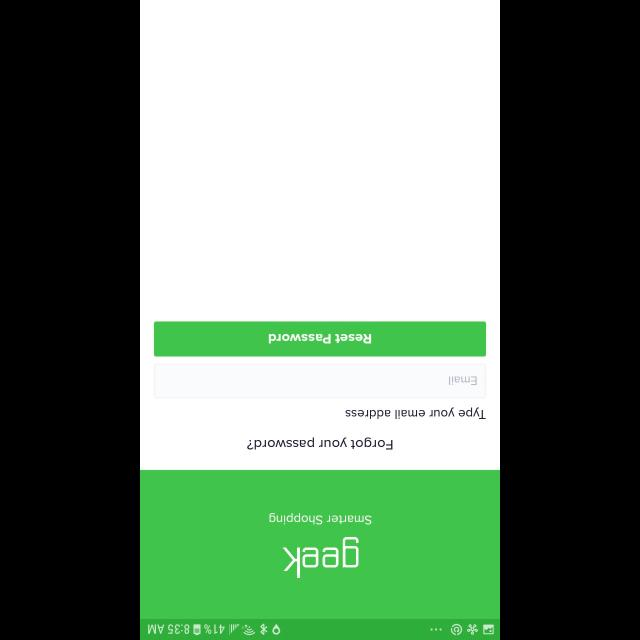input: (154, 364, 486, 398)
text: (282, 536, 358, 578), (247, 437, 393, 449), (345, 407, 485, 419), (269, 512, 371, 524), (448, 376, 476, 384)
textbutton: (154, 322, 486, 356)
uppertaskbar: (140, 618, 500, 640)
